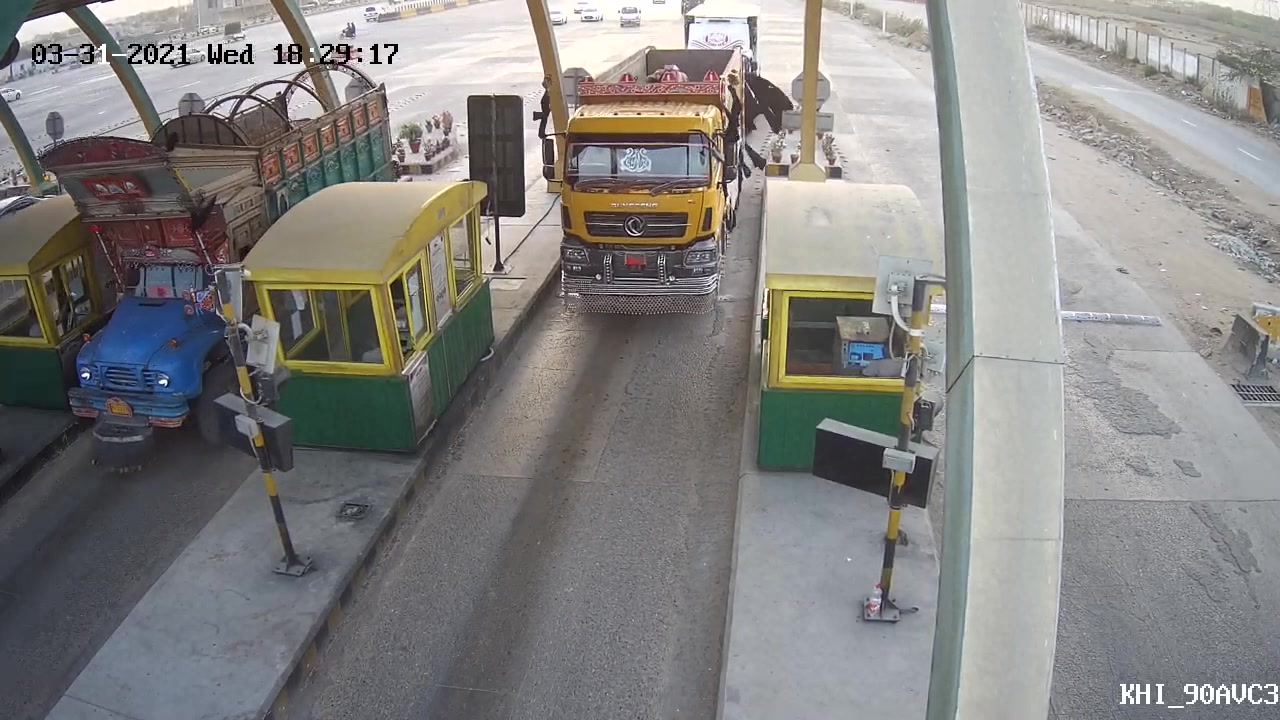F6: (540, 35, 761, 322)
